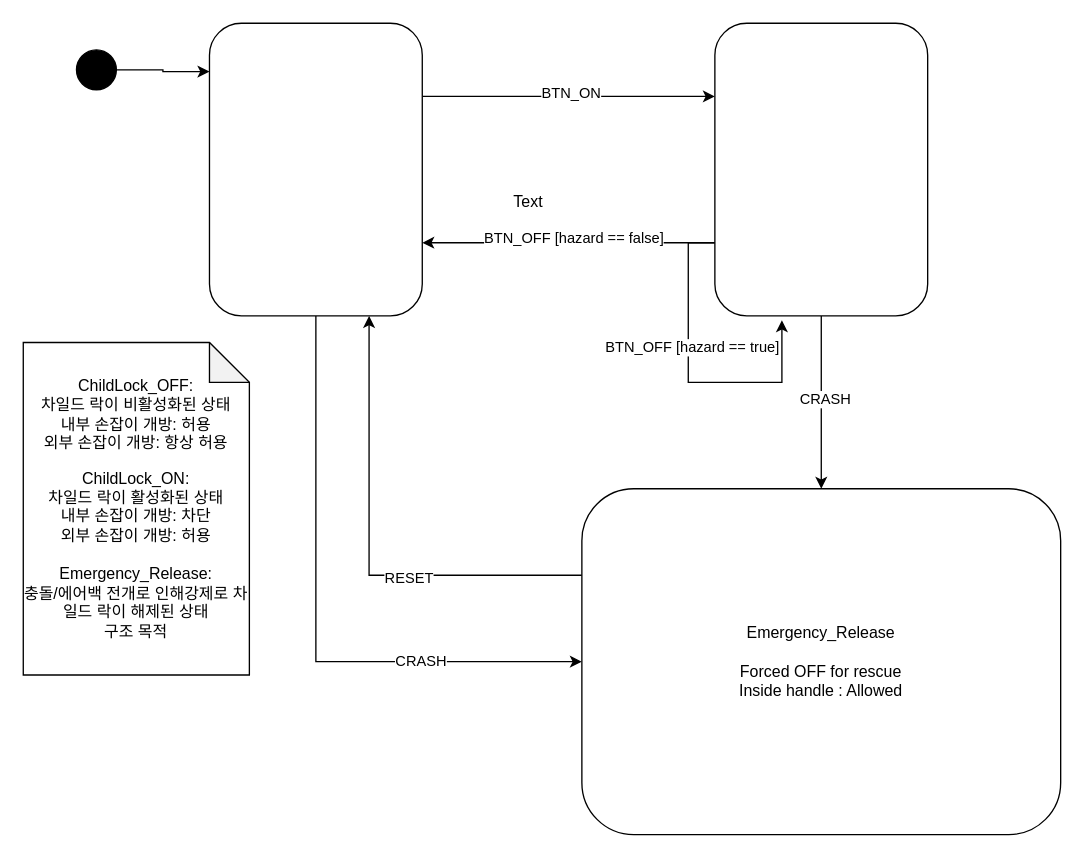
Image size: 1084x858. Some labels were removed from this diagram. The shapes that lost their labels are listed below. From the top down, each one's box as (x1, y1, x2, y2) in pixels, then its label:
(208, 22, 422, 316): ChildLock_OFF Inside handle : Allowed Outside handle : Allowed
(714, 22, 928, 316): ChildLock_ON Inside handle : Blocked Outside handle : Allowed
